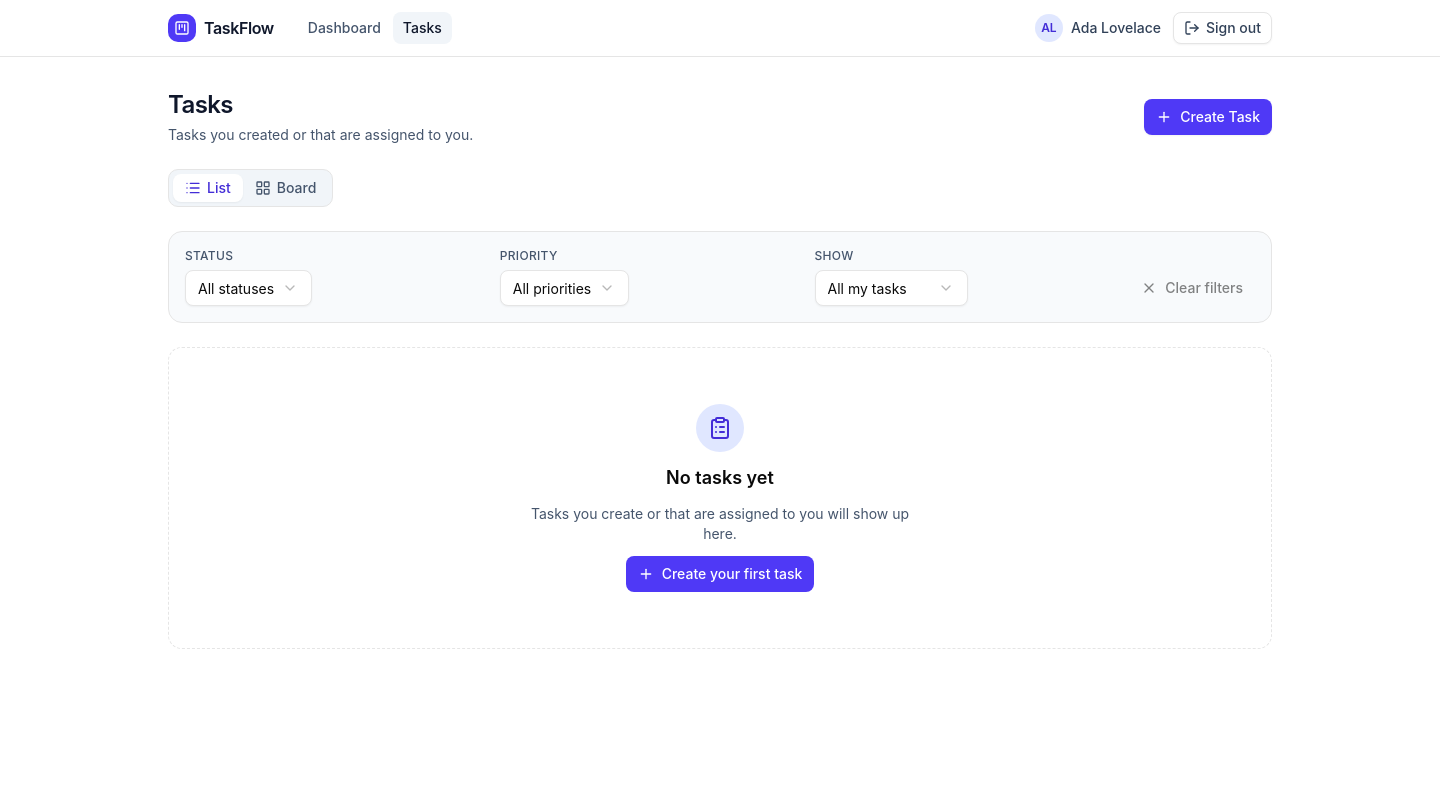
dashboard navigation › has a Dashboard link in the main navigation while the other pages keep working
Click the link "Dashboard" at (344, 28), box [308,19,381,36]
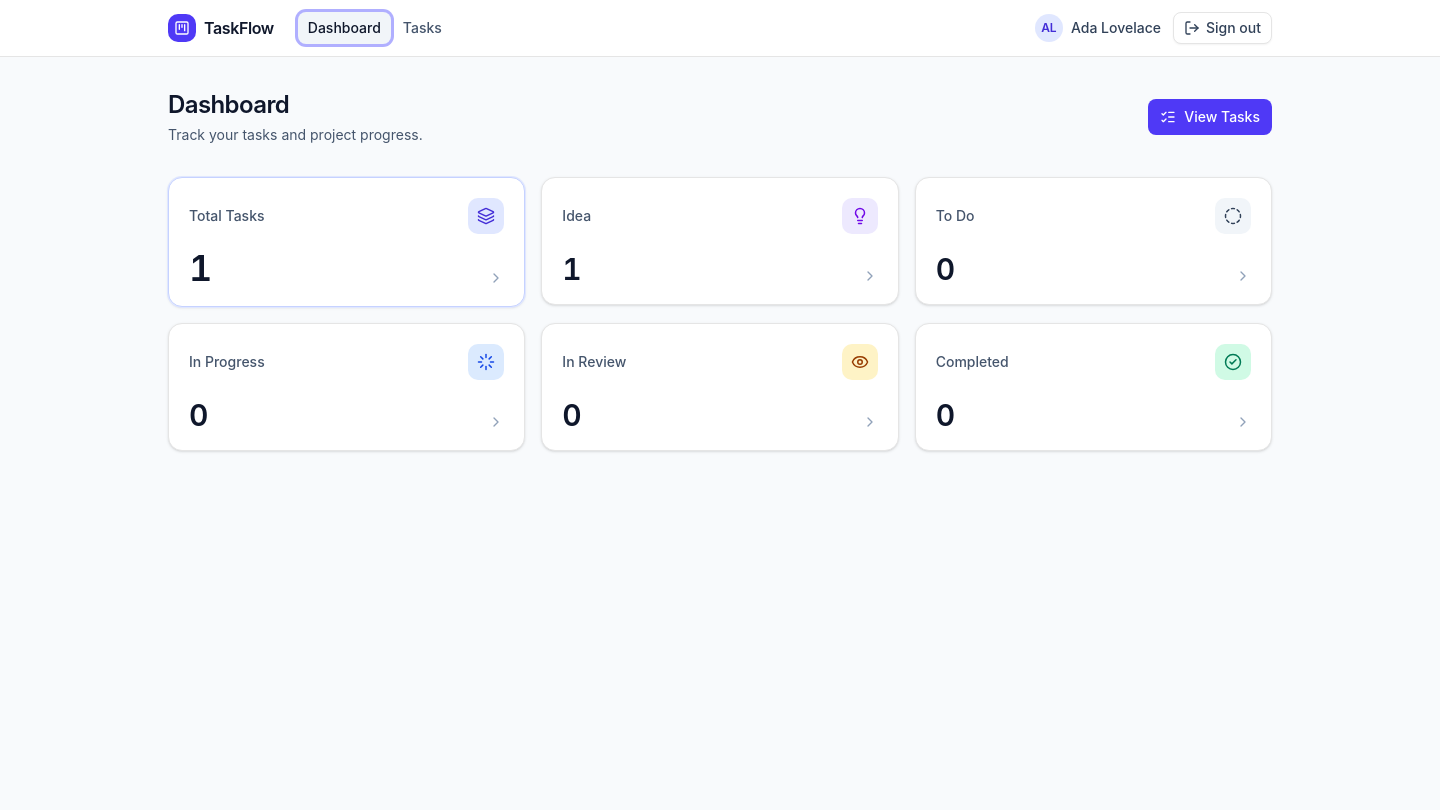
Expected: the heading "Dashboard" is shown, [168,90,289,119]
Click the link "Tasks" at (422, 28), box [403,19,442,36]
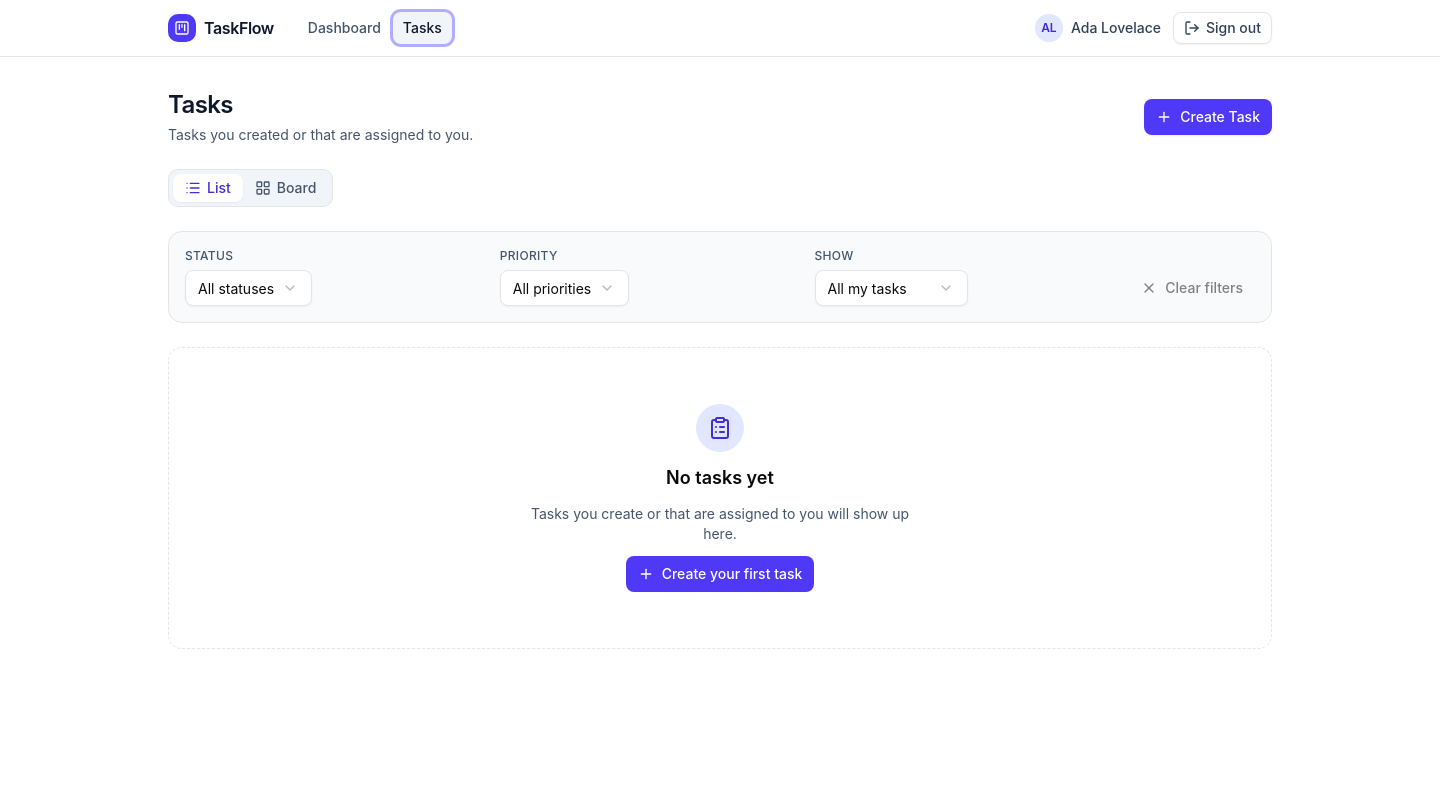
Expected: the link "Board" is shown, [255,179,316,196]
Expected: the heading "Tasks" is shown, [168,90,233,119]
